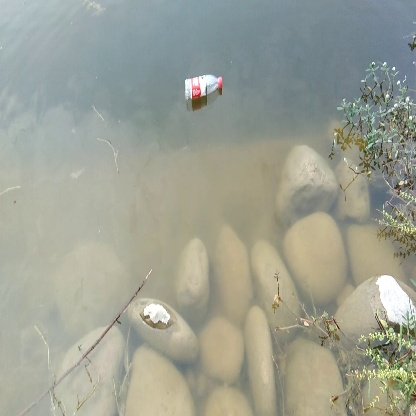bottle: (182, 74, 229, 99)
